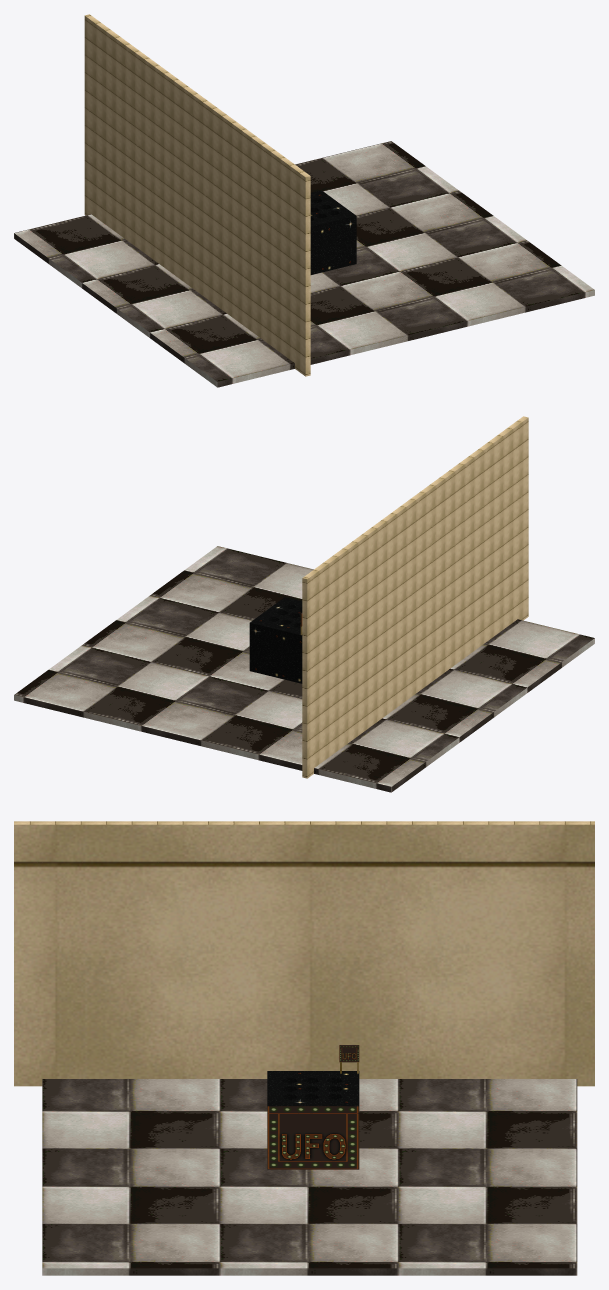
The model's file is HitUFO_brush.glb.
3 views of the same model, one above another, from view 1: azimuth 30°, elevation 25°; view 2: azimuth 150°, elevation 25°; view 3: azimuth 270°, elevation 25° (orthographic). The views are drawn at different scales.
Visible parts, largest first — view 1: HitUFO; view 2: HitUFO; view 3: HitUFO.
Part boxes in pixels (left/top/right/bottom): HitUFO: left=14, top=14, right=594, bottom=387; HitUFO: left=14, top=416, right=594, bottom=792; HitUFO: left=14, top=821, right=594, bottom=1275.
Size of the model in its own units: 2877 by 1452 by 2919.
6 materials, 6 textured.
